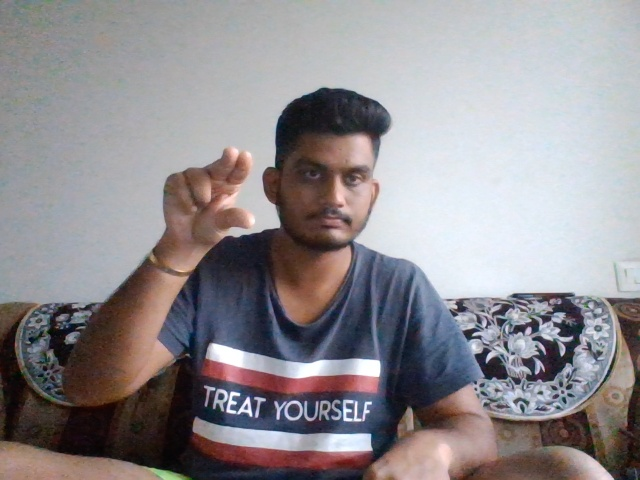No: (148, 144, 258, 253)
